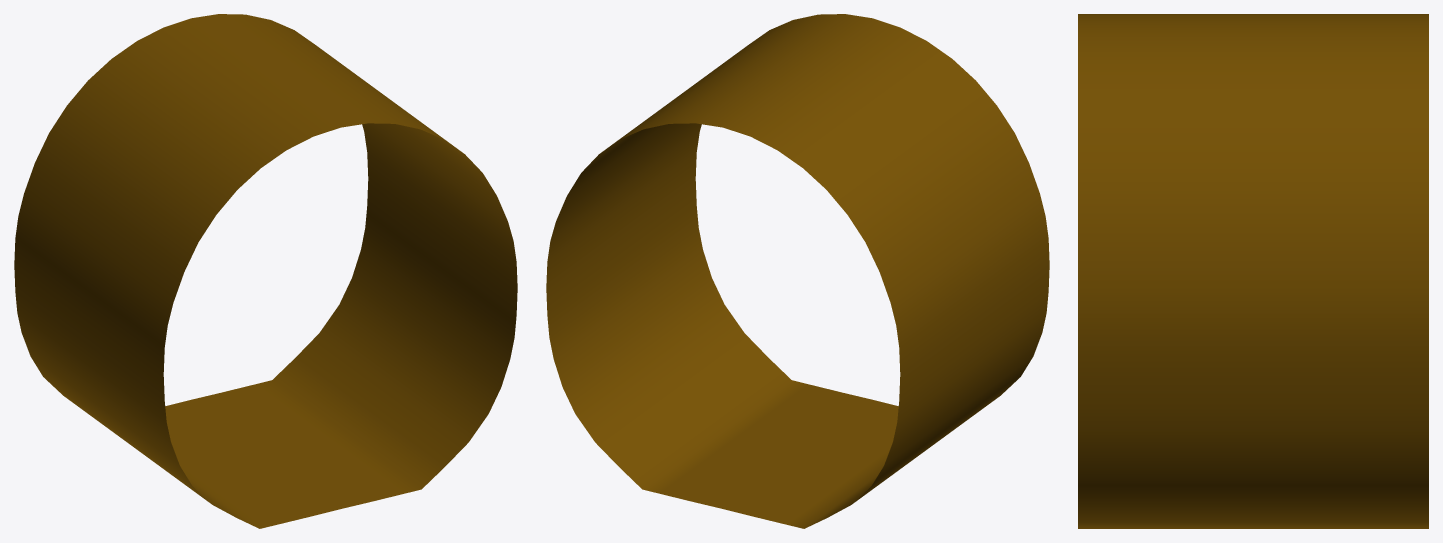
File: collider metro tile.FBX
The picture shows the model from 3 angles, left to right: view 1: azimuth 30°, elevation 25°; view 2: azimuth 150°, elevation 25°; view 3: azimuth 270°, elevation 25°; orthographic projection. The views are drawn at different scales.
Parts seen in each view (by area): view 1: Object1196324276; view 2: Object1196324276; view 3: Object1196324276.
Boxes of the visible parts, x1=… form: Object1196324276: x1=14, y1=14, x2=517, y2=528; Object1196324276: x1=546, y1=14, x2=1049, y2=528; Object1196324276: x1=1078, y1=14, x2=1428, y2=528.
Size of the model in its own units: 5.47 by 5.64 by 4.
